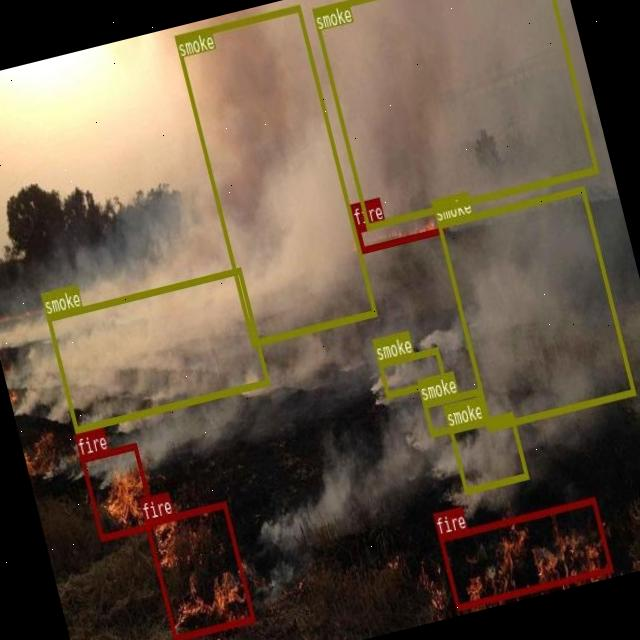fire: (438, 496, 612, 611), (143, 499, 255, 640), (79, 442, 156, 540), (354, 205, 443, 251)
smoke: (174, 3, 376, 346), (311, 0, 597, 228), (436, 186, 635, 430), (45, 266, 268, 432), (448, 412, 528, 494), (377, 347, 446, 398), (422, 386, 486, 436)
